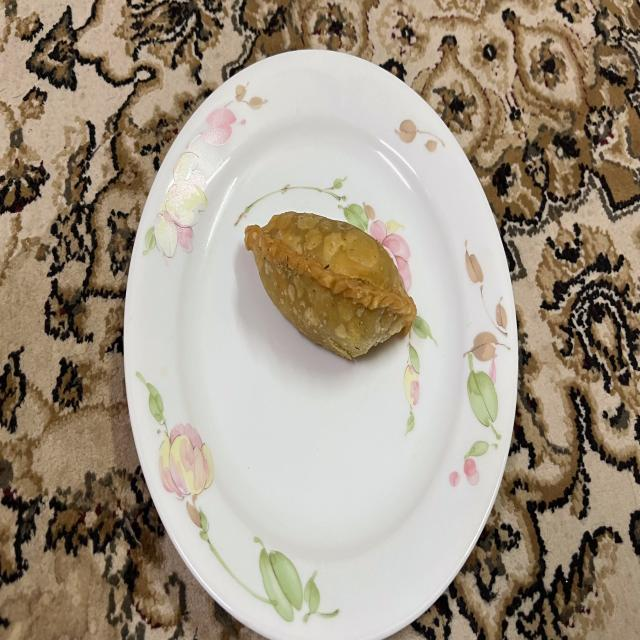karipap: (245, 211, 416, 360)
